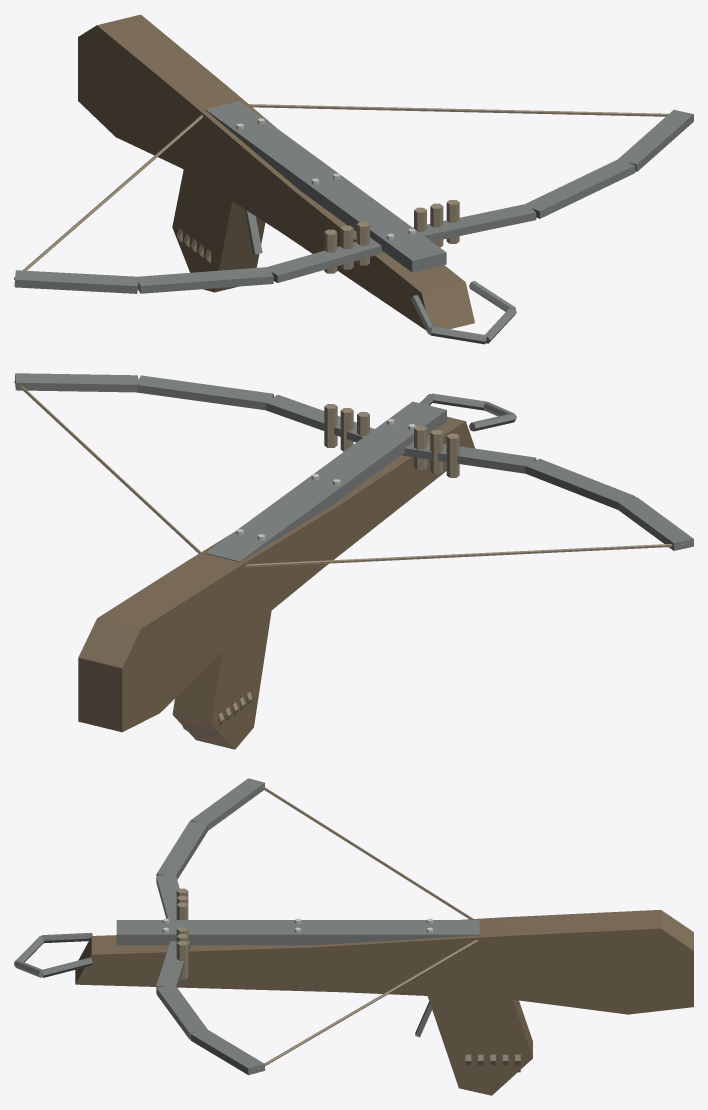
File: crossbow_junk_r2.glb
3 views of the same model, one above another, from view 1: azimuth 30°, elevation 25°; view 2: azimuth 150°, elevation 25°; view 3: azimuth 270°, elevation 25° (orthographic). The views are drawn at different scales.
Size of the model in its own units: 0.8332 by 0.228 by 0.8243.
